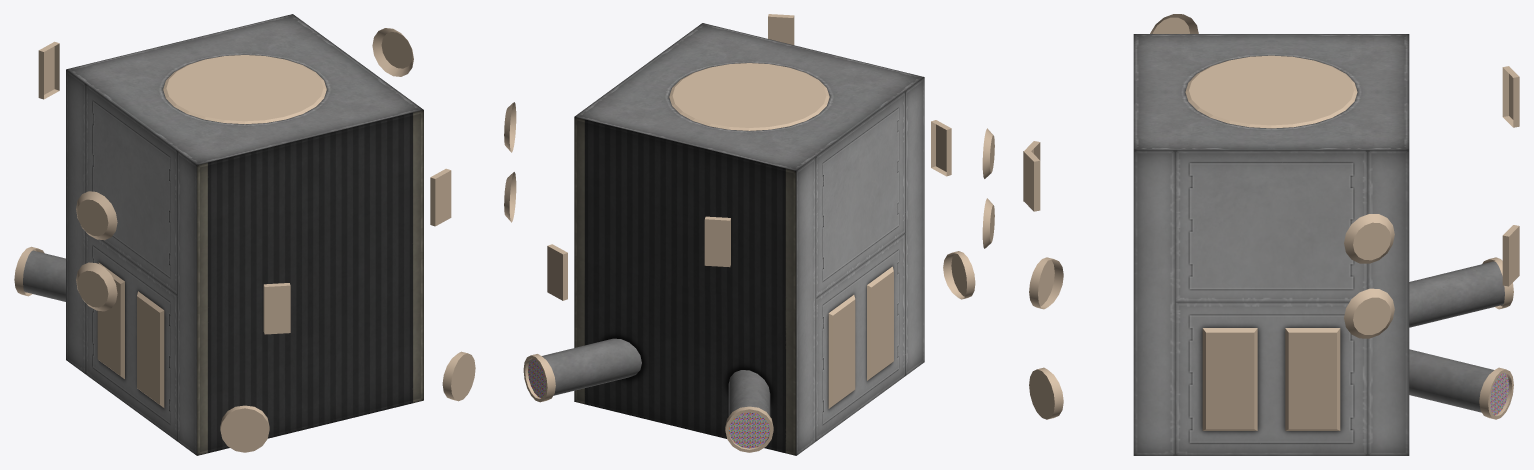
The model's file is hamal_cargo_module_s1_1_interior.obj.
3 renders of one model, left to right at view 1: azimuth 30°, elevation 25°; view 2: azimuth 150°, elevation 25°; view 3: azimuth 270°, elevation 25°, orthographic. The views are drawn at different scales.
Parts seen in each view (by area): view 1: i2, im2; view 2: i2, im2, iw1; view 3: i2, im2, iw1.
Part boxes in pixels (x1=…): i2: x1=23, y1=14, x2=423, y2=455; im2: x1=14, y1=28, x2=475, y2=452; i2: x1=542, y1=23, x2=924, y2=455; im2: x1=504, y1=14, x2=994, y2=452; iw1: x1=528, y1=359, x2=769, y2=448; i2: x1=1133, y1=34, x2=1504, y2=455; im2: x1=1023, y1=14, x2=1519, y2=430; iw1: x1=1490, y1=373, x2=1509, y2=415.
Size of the model in its own units: 1.82 by 1.24 by 1.8.
3 materials, 2 textured.
